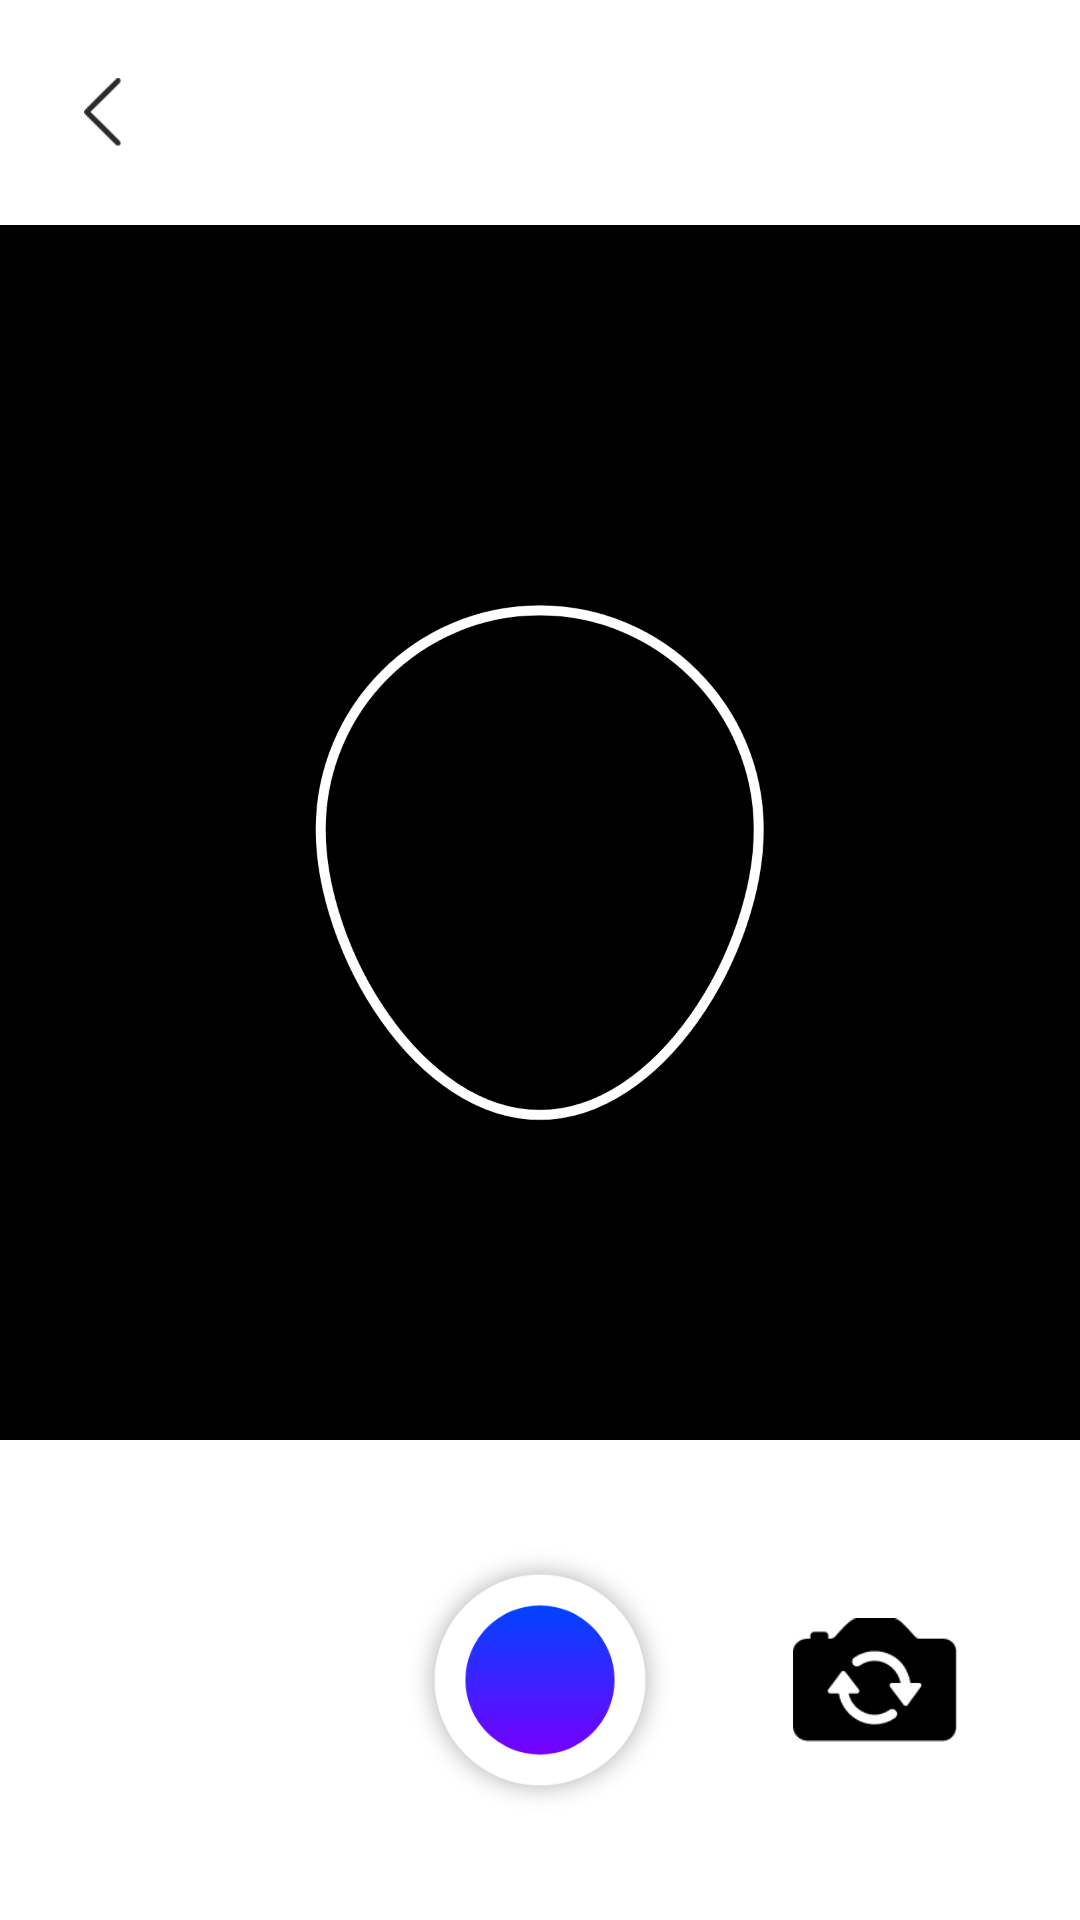

Named icons in this screenshot (1080px x 1920px) and their centers, (x,y):
cambt: (540,1680)
camswitch: (875,1680)
